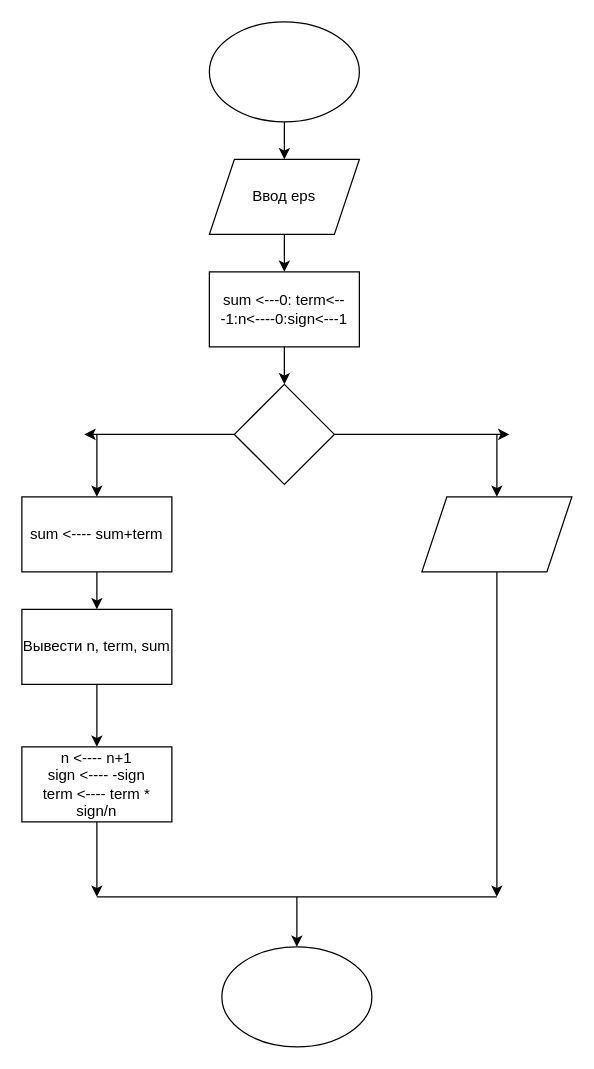
Some shapes in this 594 by 1069 pixel diagram are drawn without their labels. The shapes that lost their labels are listed below. From the top down, each one's centre as x and y in pixels, then its label:
At pixel 283 71: "начало".
At pixel 283 433: "if |term| >= eps".
At pixel 496 534: "Вывести итоговую sum".
